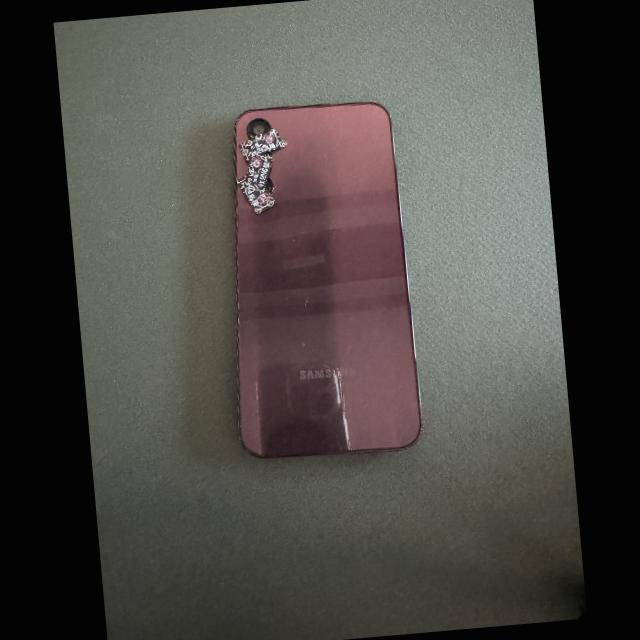lens: (248, 119, 271, 137), (266, 180, 273, 191)
phone: (234, 101, 423, 458)
sticker: (236, 175, 276, 214), (239, 128, 285, 161), (243, 153, 273, 194)
